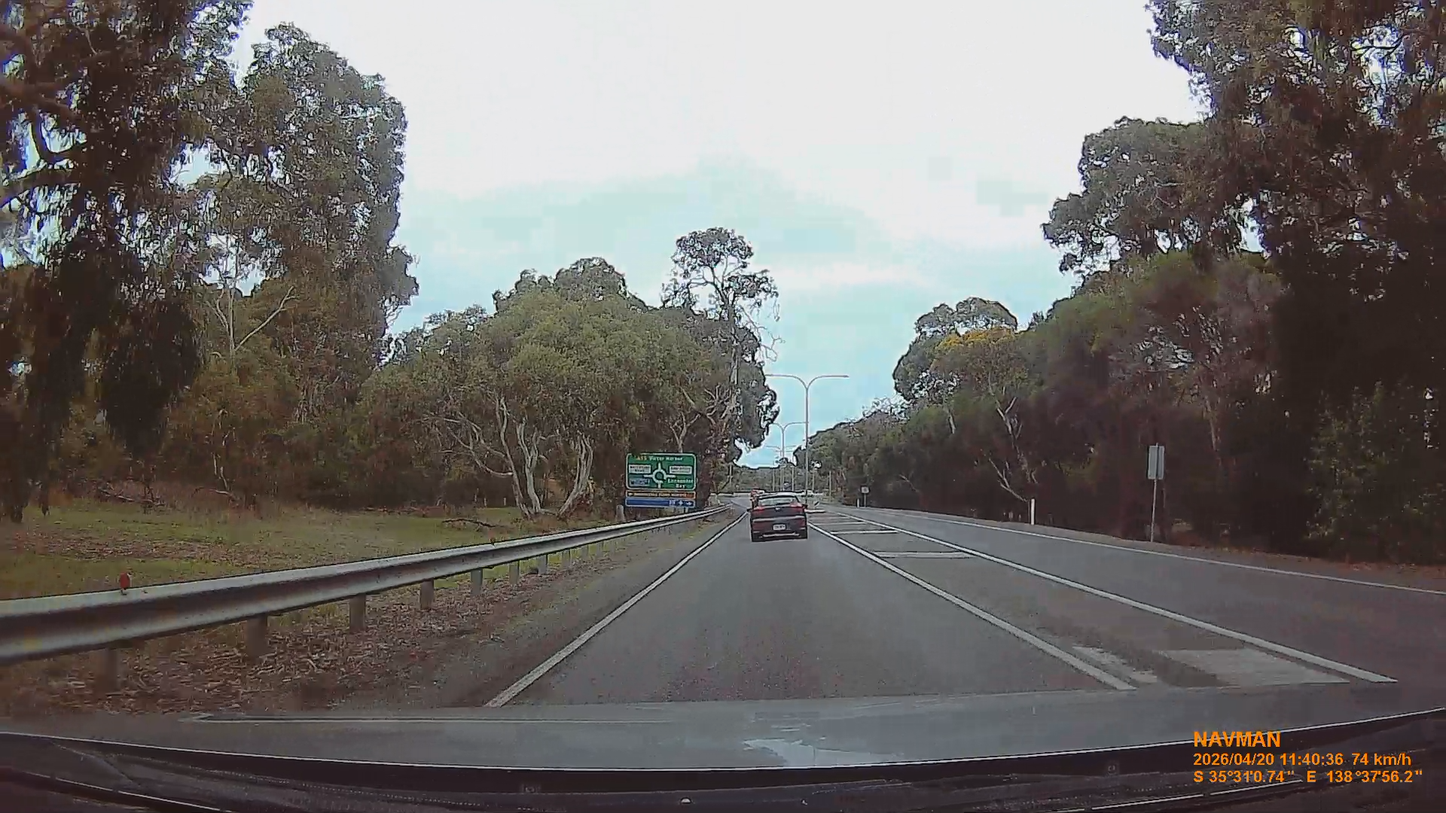road barriers: (5, 514, 699, 668)
